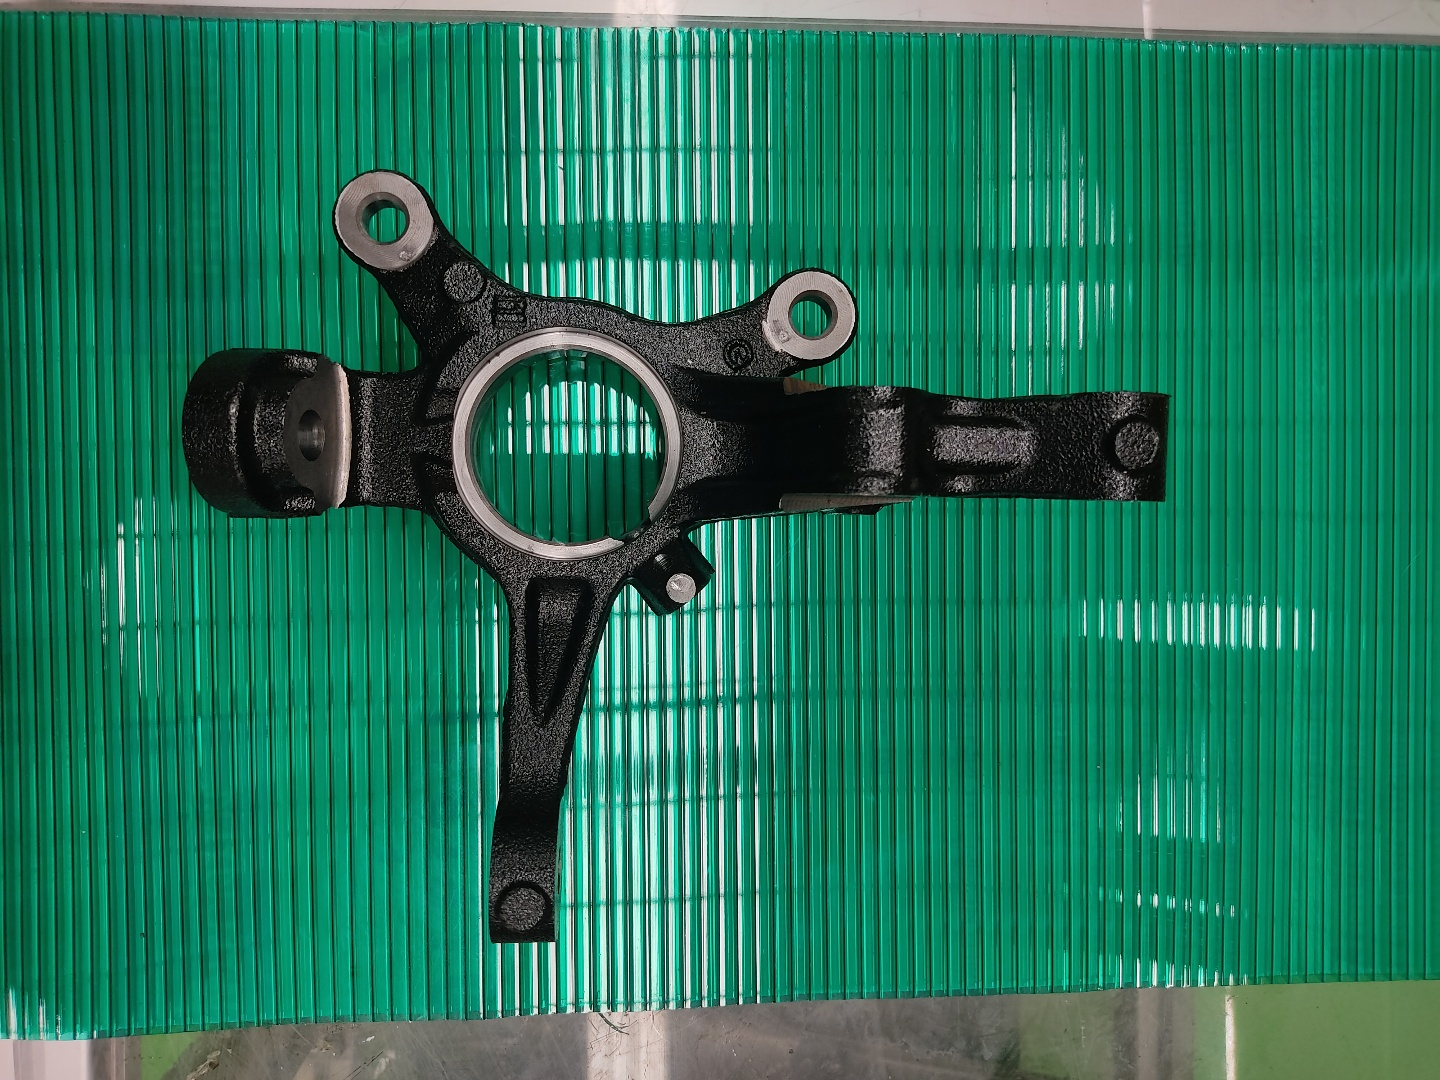abs-rh: (168, 160, 1181, 952)
